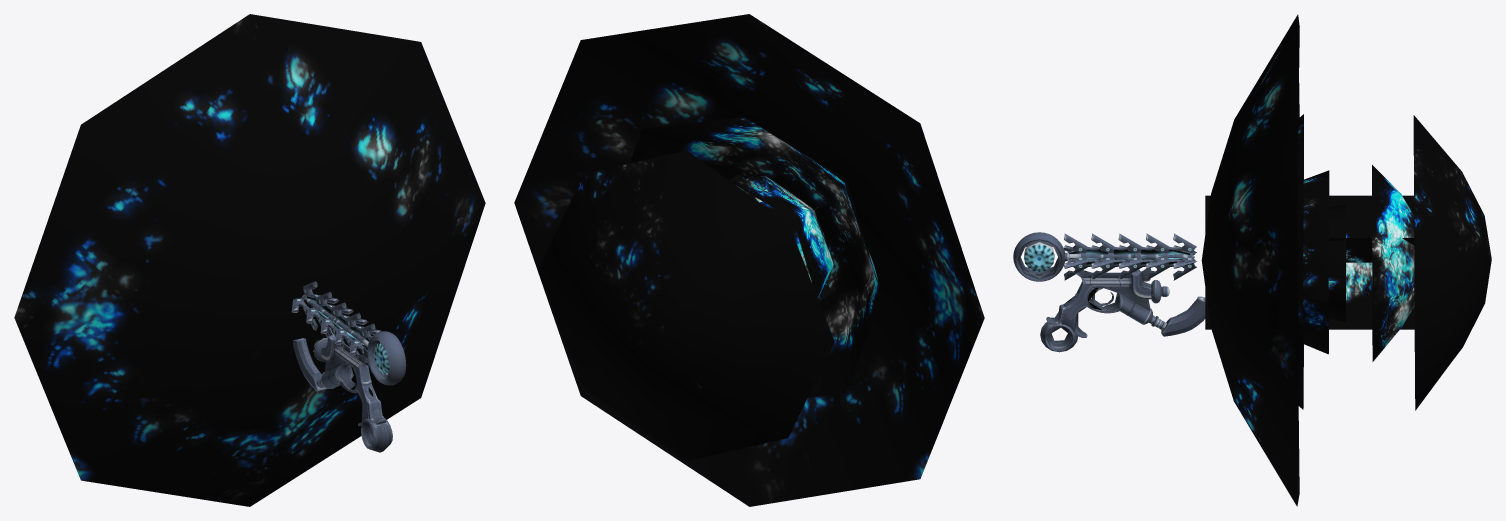
Rendered from TP_Kral.DAE.
3 views of the same model, side by side, from view 1: azimuth 30°, elevation 25°; view 2: azimuth 150°, elevation 25°; view 3: azimuth 270°, elevation 25° (orthographic). The views are drawn at different scales.
Visible parts, largest first — view 1: Kral_MuzzleFlash4_LOD300, Kral_LOD300, Kral_LOD100, Kral_LOD200; view 2: Kral_MuzzleFlash4_LOD300, Kral_MuzzleFlash3_LOD300, Kral_MuzzleFlash2_LOD300; view 3: Kral_MuzzleFlash4_LOD300, Kral_MuzzleFlash3_LOD300, Kral_LOD300, Kral_MuzzleFlash1_LOD300, Kral_LOD100, Kral_MuzzleFlash2_LOD300, Kral_LOD200.
Boxes of the visible parts, bbox=[...] form: Kral_MuzzleFlash4_LOD300: bbox=[14, 14, 485, 506]; Kral_LOD300: bbox=[291, 281, 406, 452]; Kral_LOD100: bbox=[292, 282, 391, 448]; Kral_LOD200: bbox=[293, 287, 391, 418]; Kral_MuzzleFlash4_LOD300: bbox=[514, 14, 984, 506]; Kral_MuzzleFlash3_LOD300: bbox=[630, 117, 881, 397]; Kral_MuzzleFlash2_LOD300: bbox=[731, 176, 833, 298]; Kral_MuzzleFlash4_LOD300: bbox=[1201, 14, 1491, 506]; Kral_MuzzleFlash3_LOD300: bbox=[1297, 114, 1414, 409]; Kral_LOD300: bbox=[1013, 232, 1205, 352]; Kral_MuzzleFlash1_LOD300: bbox=[1205, 195, 1414, 329]; Kral_LOD100: bbox=[1017, 235, 1205, 349]; Kral_MuzzleFlash2_LOD300: bbox=[1205, 170, 1329, 354]; Kral_LOD200: bbox=[1016, 237, 1205, 331].
Size of what is drawn, in the model's own units: 1.1 by 1.03 by 1.1.
